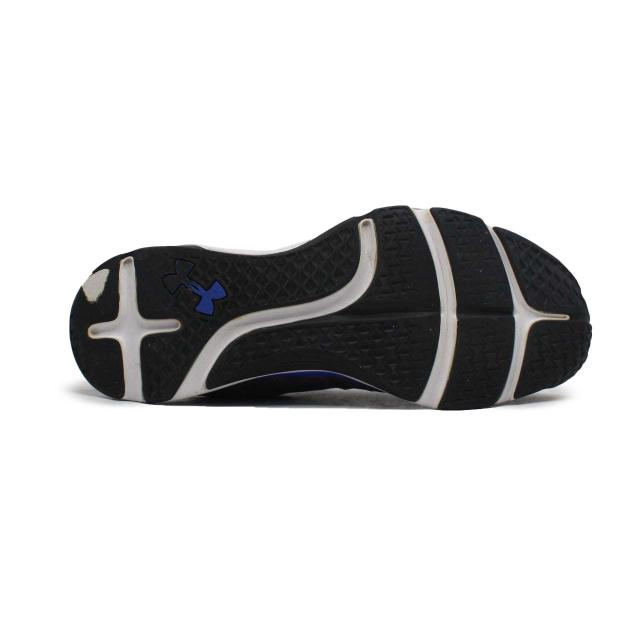outersole: (70, 204, 592, 411)
